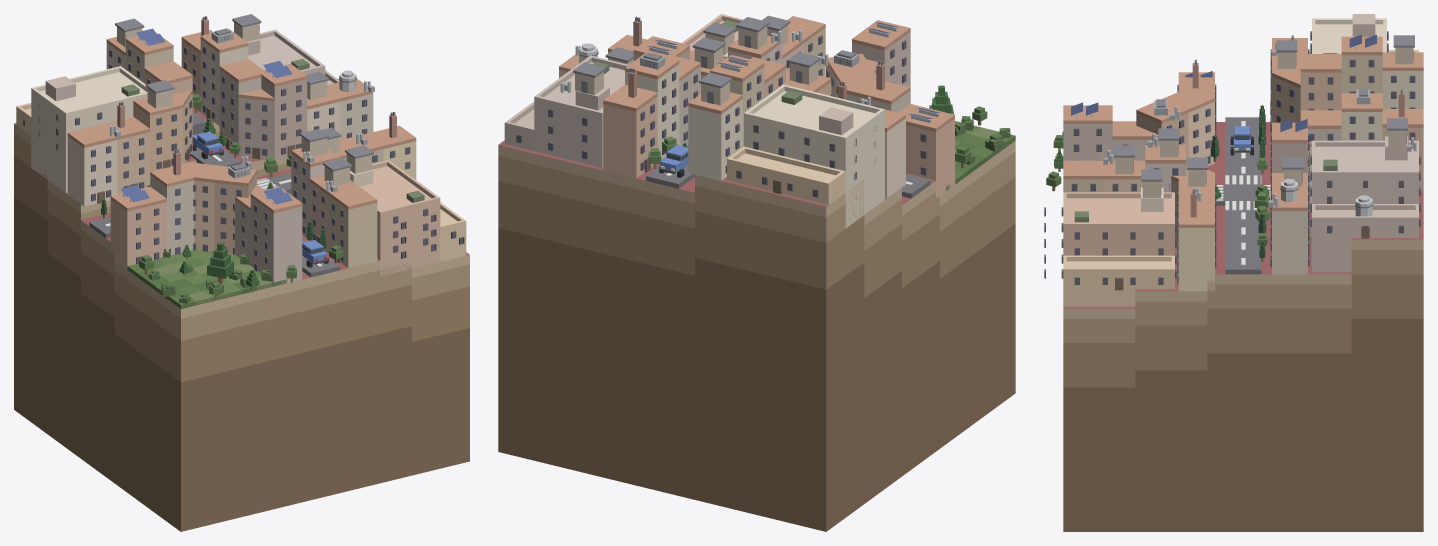
The model's file is block_16_engineered_20.glb.
The picture shows the model from 3 angles, left to right: view 1: azimuth 30°, elevation 25°; view 2: azimuth 150°, elevation 25°; view 3: azimuth 270°, elevation 25°; orthographic projection. The views are drawn at different scales.
Visible parts, largest first — view 1: Patch_MidRight_b18_ES, Cerda_MidRight_b18_ES, Insets_MidRight_b18_ES, CerdaRoofProps_MidRight_b18_ES, Green_MidRight_b18_ES, Roads_MidRight_b18_ES, Asset_Tree_Pine.005_ES, Asset_Car.032_ES, Asset_Car.035_ES; view 2: Patch_MidRight_b18_ES, Cerda_MidRight_b18_ES, Insets_MidRight_b18_ES, CerdaRoofProps_MidRight_b18_ES, Green_MidRight_b18_ES, Roads_MidRight_b18_ES, Asset_Car.033_ES; view 3: Patch_MidRight_b18_ES, Cerda_MidRight_b18_ES, Insets_MidRight_b18_ES, CerdaRoofProps_MidRight_b18_ES, Roads_MidRight_b18_ES, Zebra_MidRight_b18_ES, Asset_Car.034_ES.
Part boxes in pixels (left/top/right/bottom): Patch_MidRight_b18_ES: left=14, top=108, right=469, bottom=531; Cerda_MidRight_b18_ES: left=67, top=29, right=416, bottom=285; Insets_MidRight_b18_ES: left=16, top=29, right=466, bottom=276; CerdaRoofProps_MidRight_b18_ES: left=110, top=14, right=396, bottom=204; Green_MidRight_b18_ES: left=127, top=250, right=287, bottom=308; Roads_MidRight_b18_ES: left=89, top=111, right=339, bottom=277; Asset_Tree_Pine.005_ES: left=207, top=242, right=233, bottom=283; Asset_Car.032_ES: left=192, top=131, right=223, bottom=159; Asset_Car.035_ES: left=302, top=240, right=328, bottom=267; Patch_MidRight_b18_ES: left=498, top=140, right=1015, bottom=531; Cerda_MidRight_b18_ES: left=559, top=16, right=954, bottom=198; Insets_MidRight_b18_ES: left=504, top=14, right=884, bottom=228; CerdaRoofProps_MidRight_b18_ES: left=560, top=15, right=940, bottom=122; Green_MidRight_b18_ES: left=946, top=121, right=1015, bottom=190; Roads_MidRight_b18_ES: left=646, top=165, right=930, bottom=198; Asset_Car.033_ES: left=659, top=145, right=688, bottom=177; Patch_MidRight_b18_ES: left=1063, top=122, right=1423, bottom=531; Cerda_MidRight_b18_ES: left=1063, top=36, right=1423, bottom=291; Insets_MidRight_b18_ES: left=1044, top=14, right=1420, bottom=306; CerdaRoofProps_MidRight_b18_ES: left=1071, top=34, right=1416, bottom=217; Roads_MidRight_b18_ES: left=1216, top=117, right=1270, bottom=274; Zebra_MidRight_b18_ES: left=1216, top=175, right=1270, bottom=210; Asset_Car.034_ES: left=1230, top=126, right=1253, bottom=155.
Size of the model in its own units: 9.64 by 11.58 by 10.
